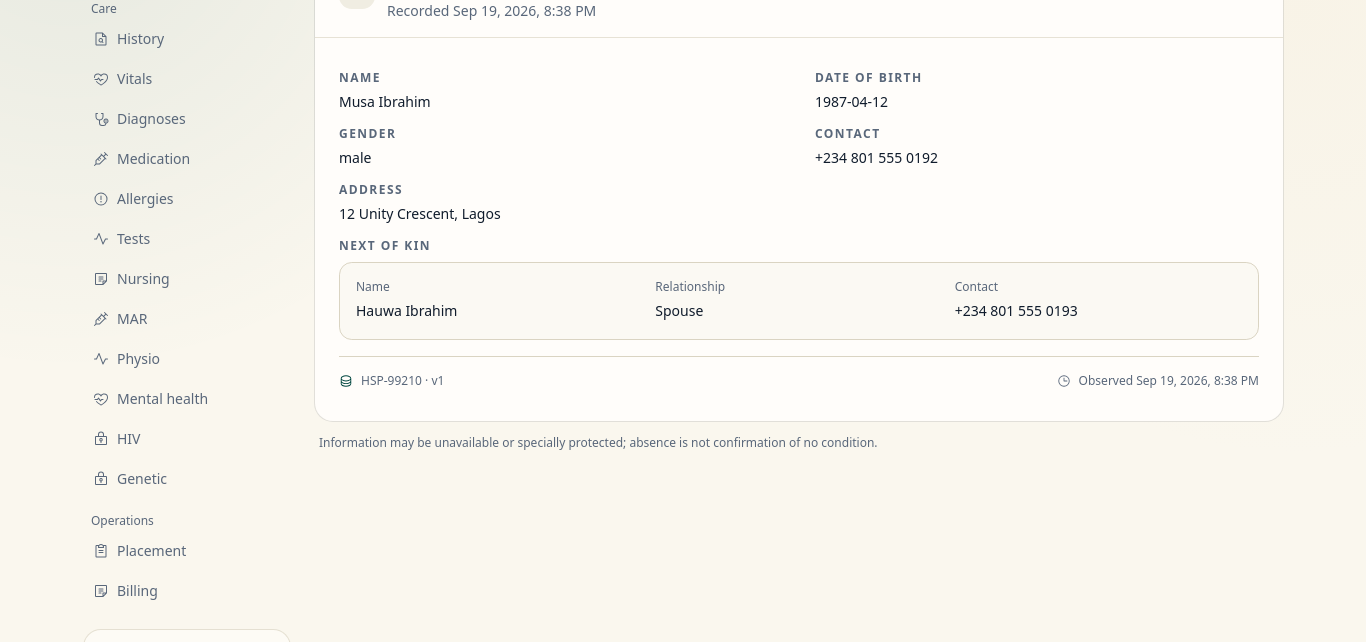
Test: saves a note to the selected open visit rather than the demographics visit
This screenshot has width=1366, height=642.
(page scrolled)
Step 1. Click the button "Nursing" → (187, 279), box [83,261,291,297]
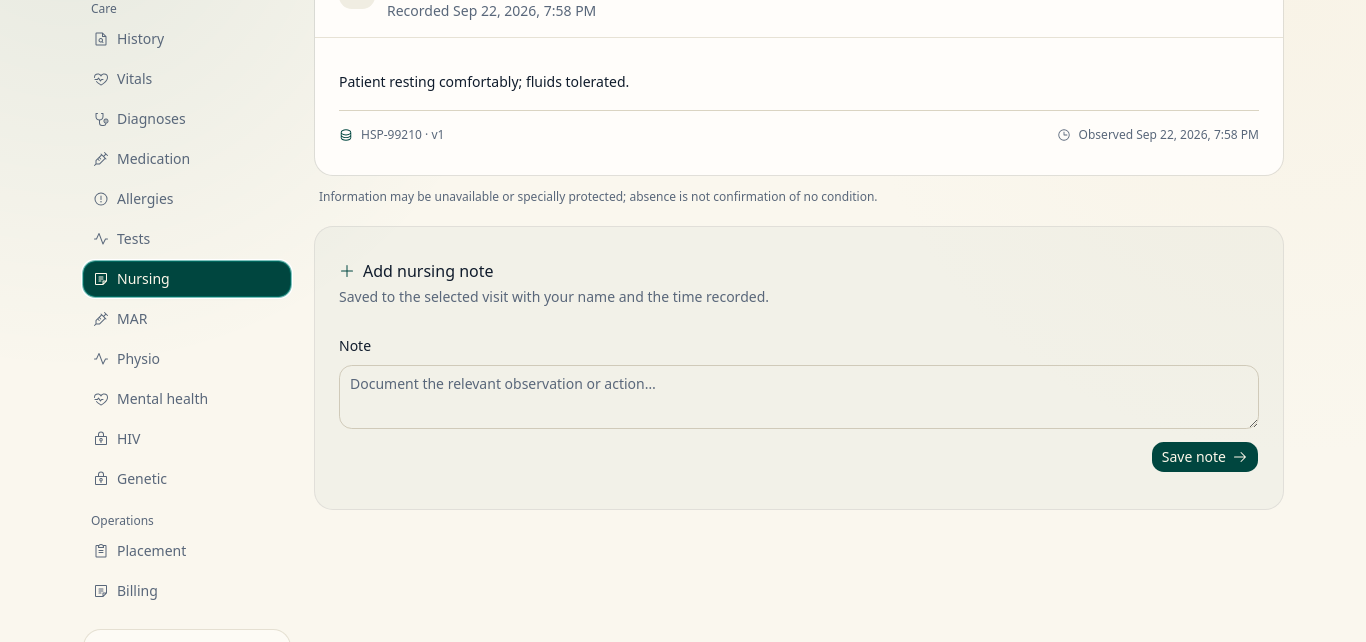
Step 2. Type "New visit observation belongs to the chosen open visit." into the text box labelled "Note" → (799, 397), box [339,365,1259,429]
(page scrolled)
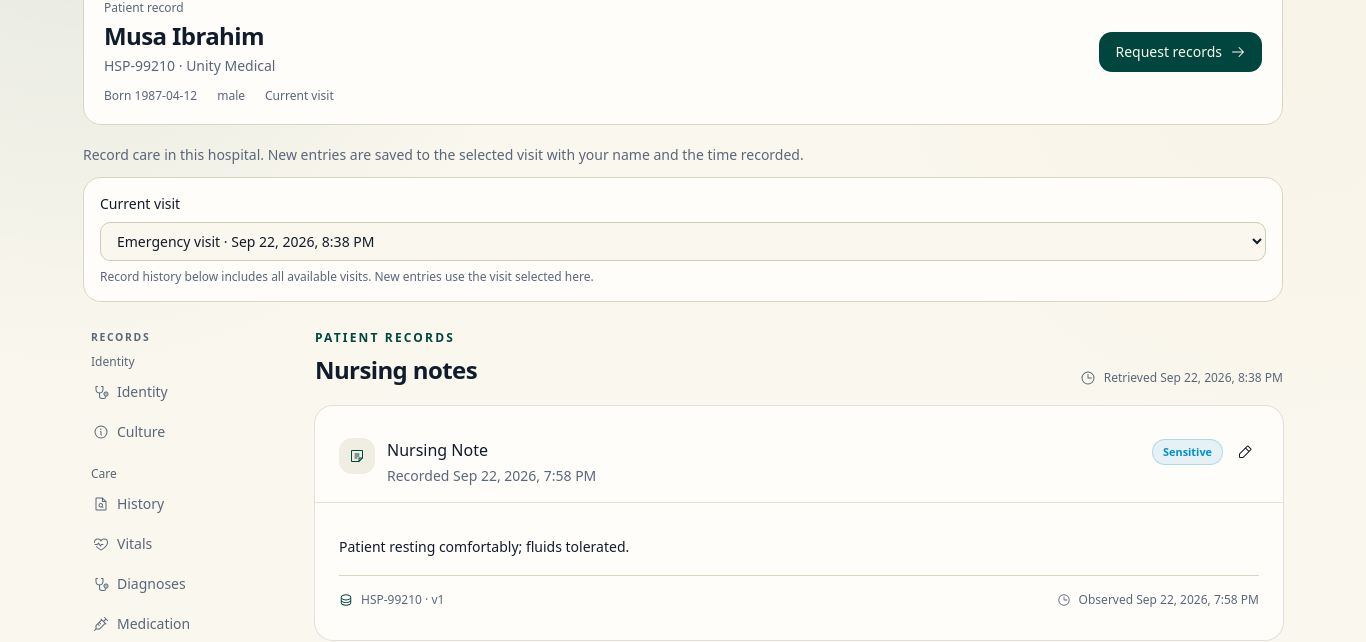
Step 3. Select "Emergency visit · Sep 22, 2026, 7:08 PM" in the dropdown labelled "Current visit" → (683, 242), box [100,222,1266,261]
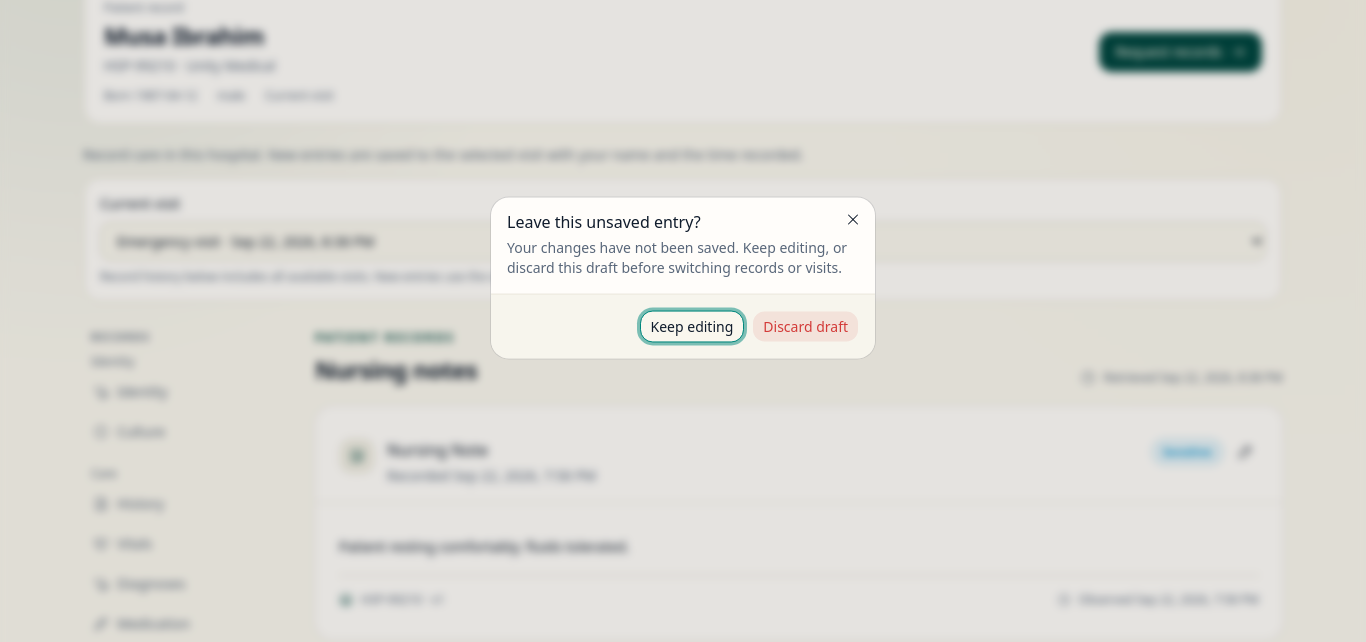
Step 4. Click the button "Keep editing" → (692, 326), box [640,310,744,342]
(page scrolled)
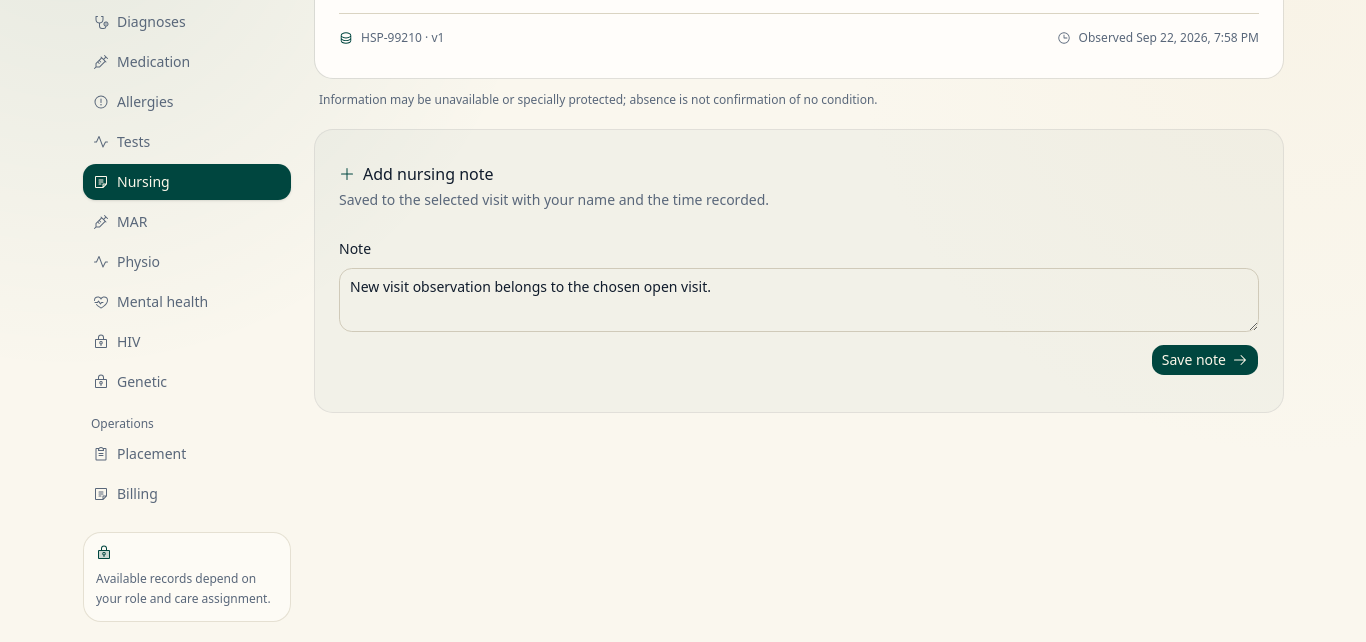
Step 5. Click the button "Save note" → (1205, 360), box [1151,344,1259,376]
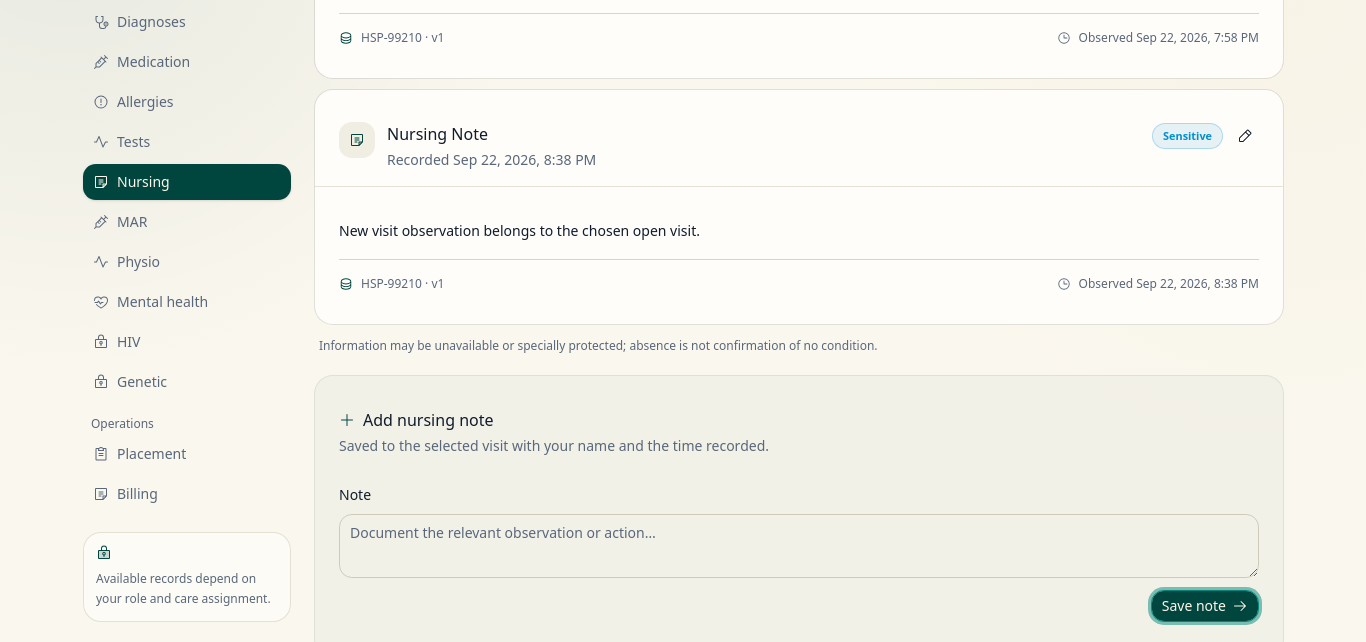
Now the text "New visit observation belongs to the chosen open visit." is shown, box [339,221,700,240]
